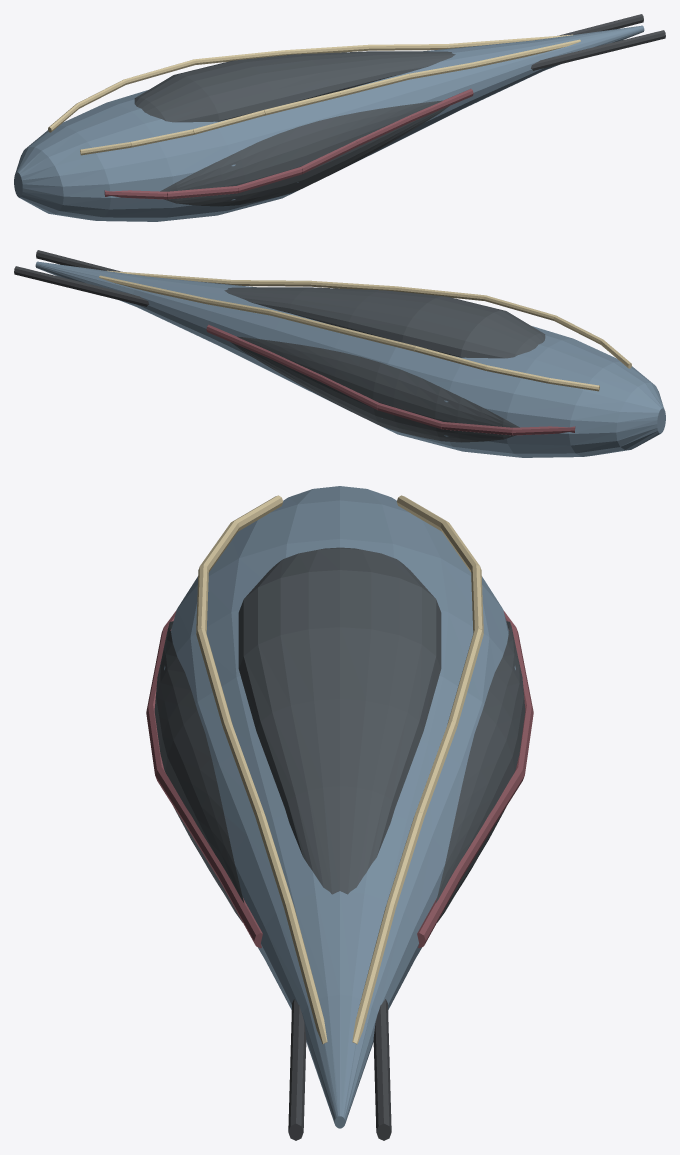
The model's file is niruch_blue_off.glb.
The picture shows the model from 3 angles, top to bottom: view 1: azimuth 30°, elevation 25°; view 2: azimuth 150°, elevation 25°; view 3: azimuth 270°, elevation 25°; orthographic projection. The views are drawn at different scales.
Parts seen in each view (by area): view 1: main_hull_0, canopy_2, side_window_1, golden_upper_rail_3, side_sweep_4, front_fork_5; view 2: main_hull_0, canopy_2, side_window_1, golden_upper_rail_3, side_sweep_4, front_fork_5; view 3: main_hull_0, canopy_2, side_window_1, golden_upper_rail_3, side_sweep_4, front_fork_5.
Part boxes in pixels (bbox=[...]): main_hull_0: bbox=[14, 25, 644, 221]; canopy_2: bbox=[134, 51, 455, 122]; side_window_1: bbox=[160, 100, 449, 206]; golden_upper_rail_3: bbox=[48, 34, 580, 155]; side_sweep_4: bbox=[104, 88, 473, 199]; front_fork_5: bbox=[531, 14, 665, 70]; main_hull_0: bbox=[35, 261, 665, 457]; canopy_2: bbox=[224, 287, 545, 358]; side_window_1: bbox=[230, 336, 519, 442]; golden_upper_rail_3: bbox=[99, 270, 631, 391]; side_sweep_4: bbox=[206, 324, 575, 435]; front_fork_5: bbox=[14, 250, 149, 306]; main_hull_0: bbox=[164, 486, 515, 1128]; canopy_2: bbox=[238, 547, 441, 894]; side_window_1: bbox=[154, 621, 525, 922]; golden_upper_rail_3: bbox=[196, 495, 483, 1044]; side_sweep_4: bbox=[146, 610, 533, 948]; front_fork_5: bbox=[288, 999, 391, 1140].
Bounding box in the file's own units: 8.13 × 1.52 × 2.15.
